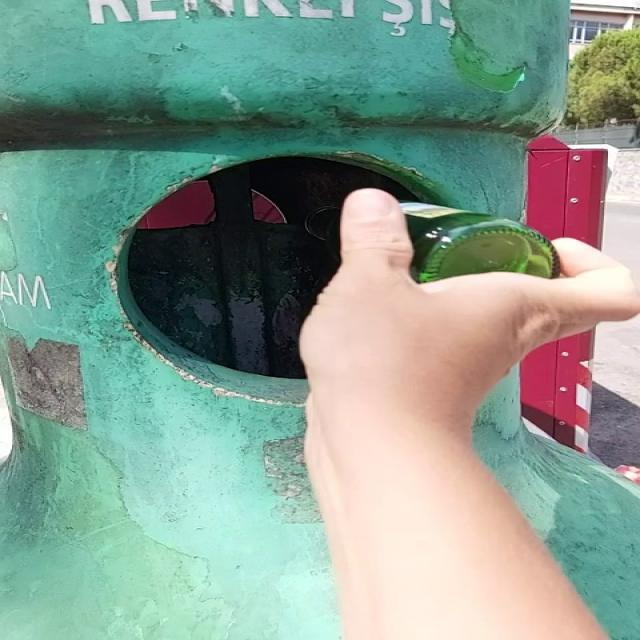glass: (403, 203, 560, 282), (304, 206, 341, 242)
